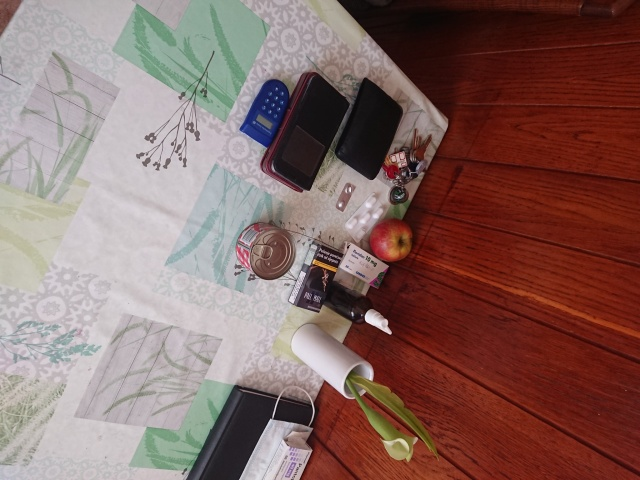Podravka Luncheon Meat 150g: (234, 220, 298, 282)
